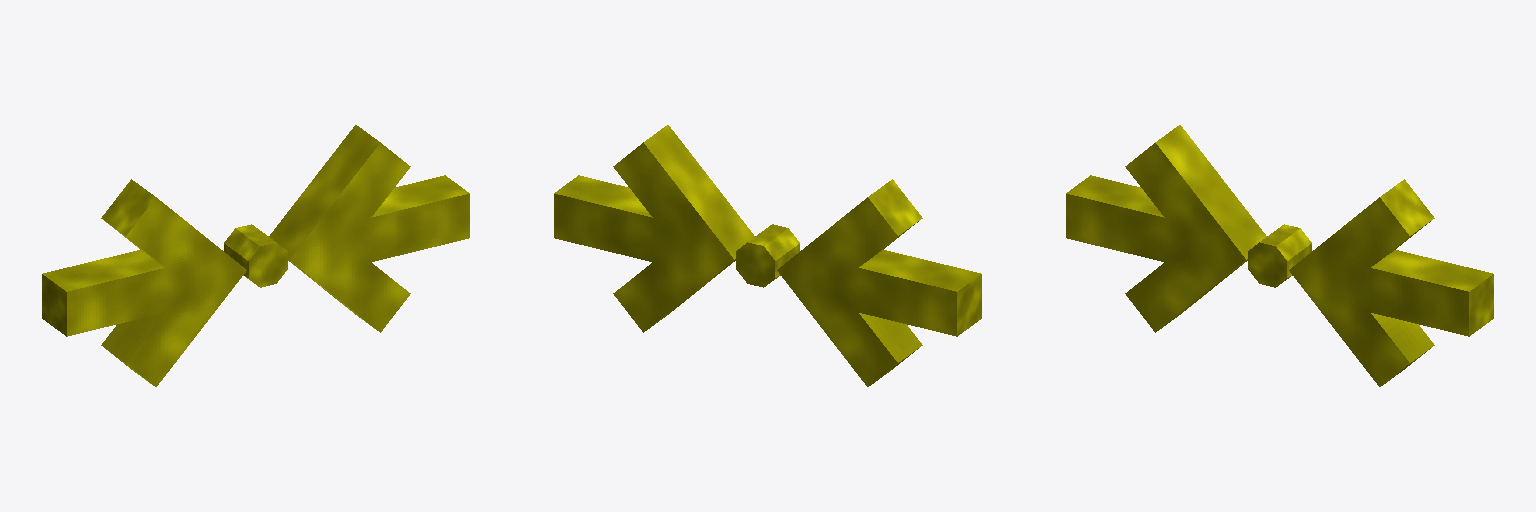
3 views of the same model, side by side, from view 1: azimuth 30°, elevation 25°; view 2: azimuth 150°, elevation 25°; view 3: azimuth 330°, elevation 25° (orthographic).
Visible parts, largest first — view 1: Cube; view 2: Cube; view 3: Cube.
Boxes of the visible parts, <box> form: Cube: <box>42,125,469,386</box>; Cube: <box>554,125,981,386</box>; Cube: <box>1066,125,1493,386</box>.
Bounding box in the file's own units: 1.41 × 0.6364 × 0.1503.
Materials: 1 (1 with a texture image).